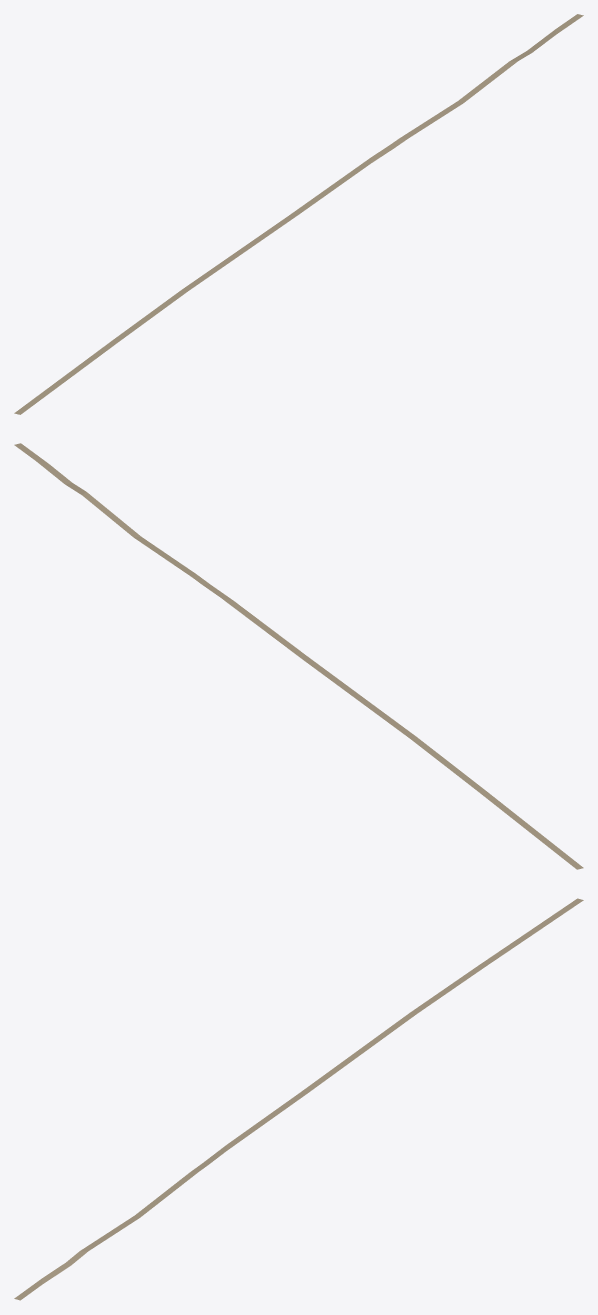
Rendered from farm_10_2_track.glb.
3 renders of one model, top to bottom at view 1: azimuth 90°, elevation 25°; view 2: azimuth 150°, elevation 25°; view 3: azimuth 270°, elevation 25°, orthographic. The views are drawn at different scales.
Parts seen in each view (by area): view 1: geometry_0; view 2: geometry_0; view 3: geometry_0.
Part boxes in pixels (left/top/right/bottom): geometry_0: left=14, top=14, right=583, bottom=414; geometry_0: left=14, top=443, right=583, bottom=869; geometry_0: left=14, top=898, right=583, bottom=1300.
Bounding box in the file's own units: 412 × 3.55 × 247.
